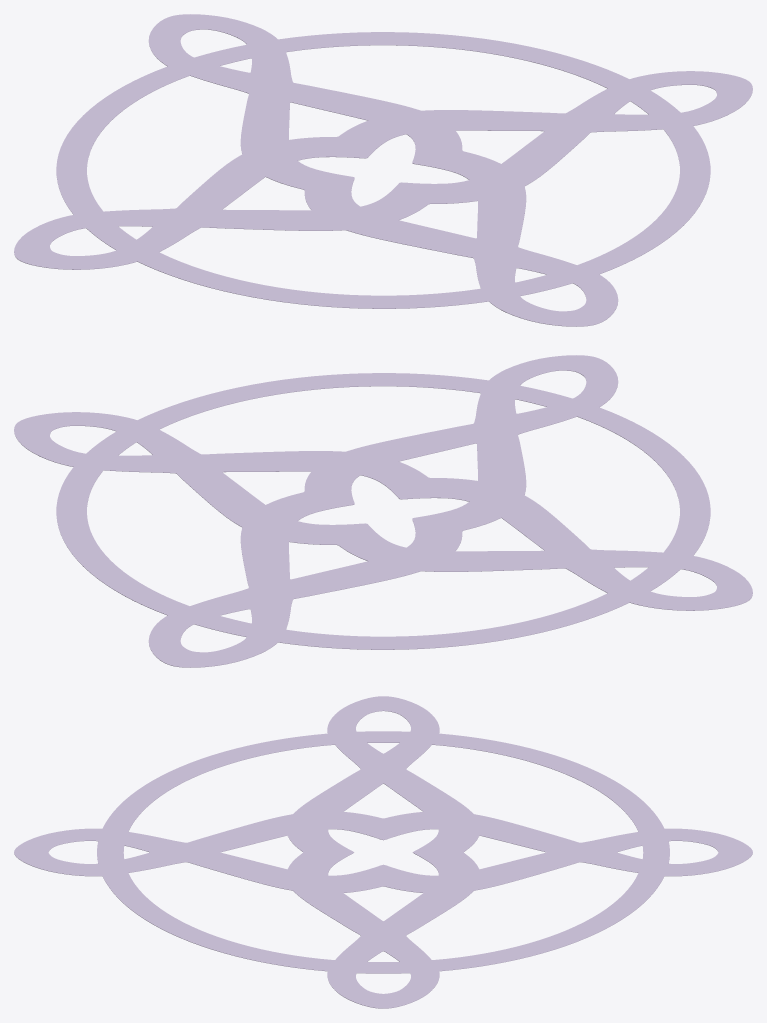
The model's file is kirino.fbx.
3 views of the same model, one above another, from view 1: azimuth 30°, elevation 25°; view 2: azimuth 150°, elevation 25°; view 3: azimuth 270°, elevation 25° (orthographic). The views are drawn at different scales.
Parts seen in each view (by area): view 1: 平面; view 2: 平面; view 3: 平面.
Part boxes in pixels (x1=…): 平面: x1=14, y1=14, x2=752, y2=326; 平面: x1=14, y1=355, x2=752, y2=667; 平面: x1=14, y1=696, x2=752, y2=1008.
Size of the model in its own units: 33.18 by 0.016 by 33.18.
